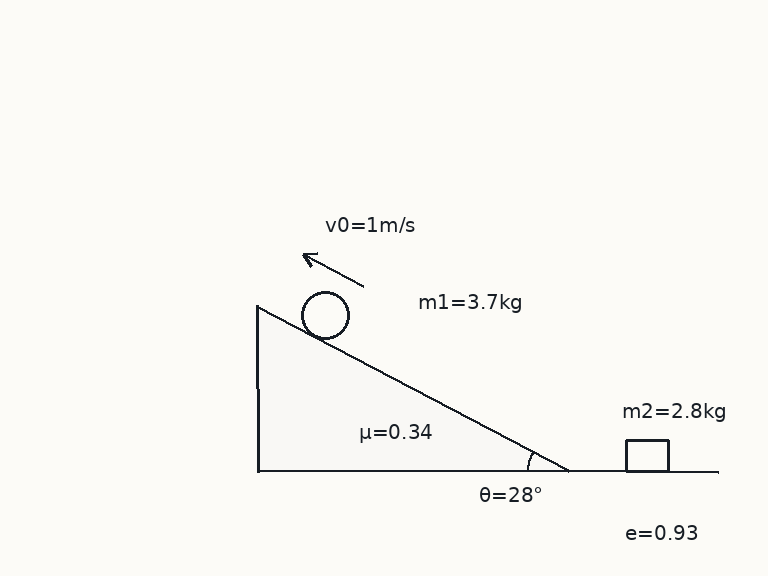ball: (299, 289, 351, 341)
block: (624, 438, 670, 473)
ramp: (254, 303, 570, 473)
